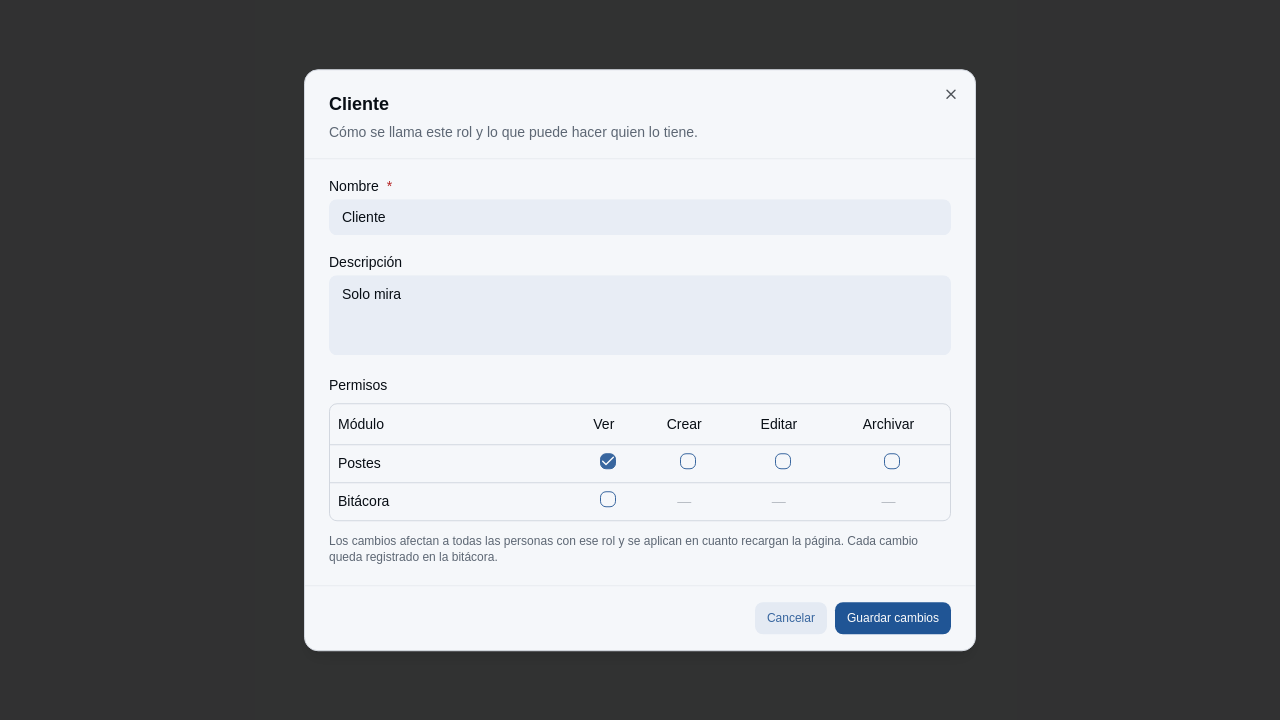
Test: what was ticked, against answers that arrive late › keeps the ticks when a second answer for the same opening lands after them
What coordinates should you click on to do the following:
click the checkbox named "Postes: Crear"
I would click on:
 (688, 461)
Its box is [680, 453, 696, 469].
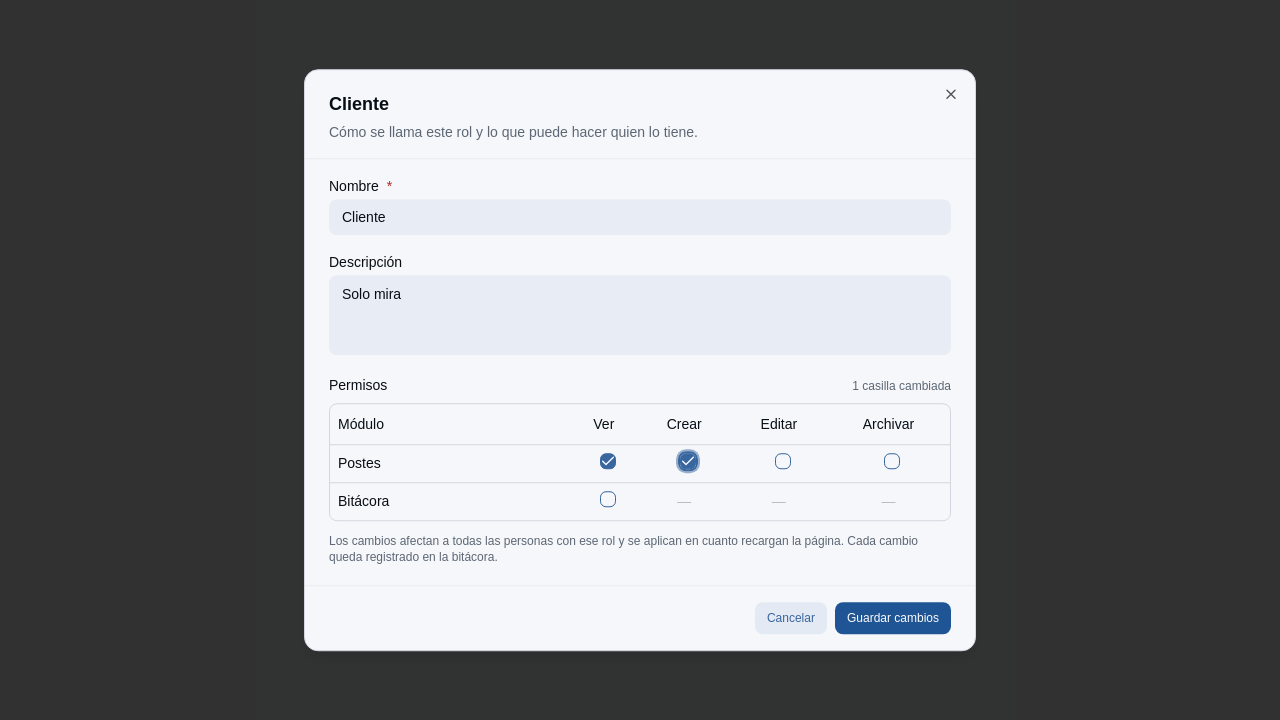
Result: the checkbox named "Postes: Crear" is checked at [680, 453, 696, 469]
Result: the text "1 casilla cambiada" is shown at [852, 378, 951, 394]
